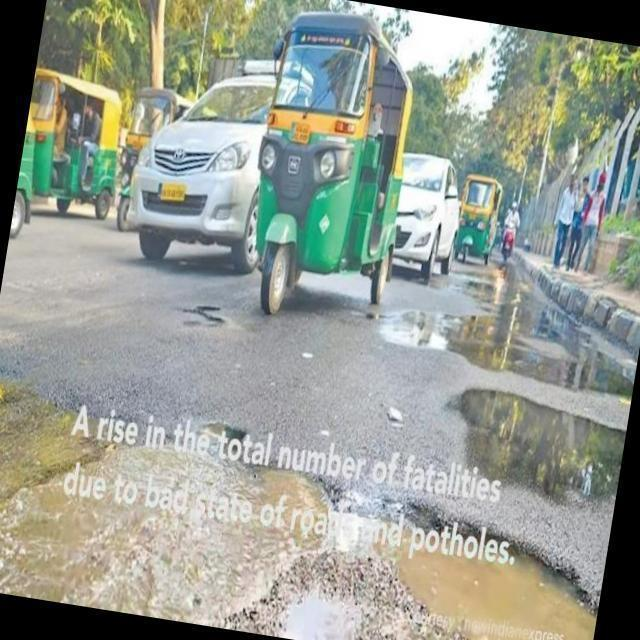pothole: (0, 448, 328, 624), (388, 524, 594, 640)
